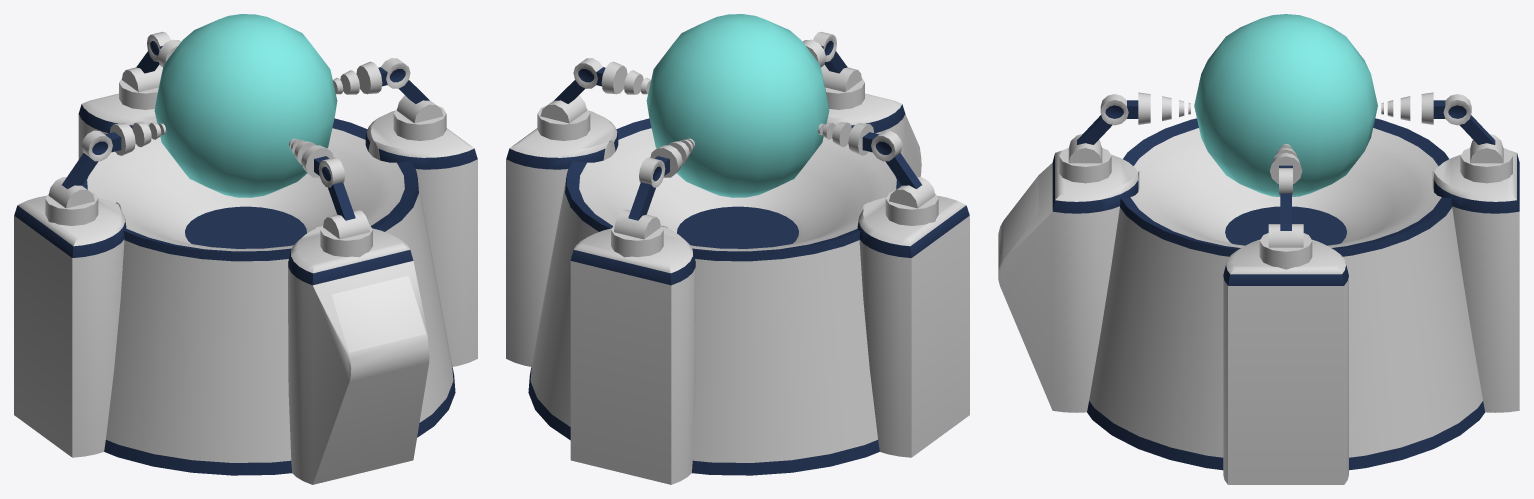
Rendered from graybox Disruptor.fbx.
3 renders of one model, left to right at view 1: azimuth 30°, elevation 25°; view 2: azimuth 150°, elevation 25°; view 3: azimuth 270°, elevation 25°, orthographic.
Parts seen in each view (by area): view 1: Disruptor 1, Disruptor 2; view 2: Disruptor 1, Disruptor 2; view 3: Disruptor 1, Disruptor 2.
Boxes of the visible parts, x1,y1,x2,y2 form: Disruptor 1: (82, 14, 455, 475); Disruptor 2: (14, 31, 477, 484); Disruptor 1: (528, 14, 901, 475); Disruptor 2: (506, 31, 969, 484); Disruptor 1: (1087, 14, 1485, 470); Disruptor 2: (998, 92, 1519, 484).
Size of the model in its own units: 2.23 by 1.92 by 2.49.
